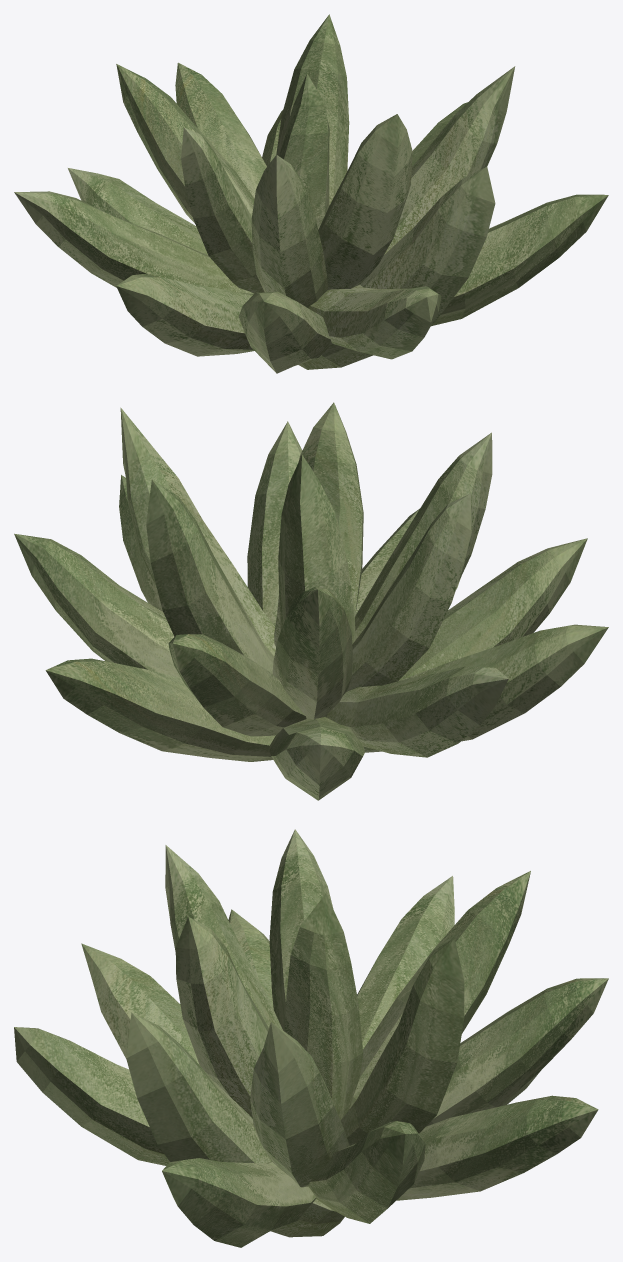
File: plant.fbx
The picture shows the model from 3 angles, top to bottom: view 1: azimuth 30°, elevation 25°; view 2: azimuth 150°, elevation 25°; view 3: azimuth 270°, elevation 25°; orthographic projection. The views are drawn at different scales.
Visible parts, largest first — view 1: plant; view 2: plant; view 3: plant.
Boxes of the visible parts, <box> form: plant: <box>14,14,608,373</box>; plant: <box>14,402,608,800</box>; plant: <box>14,829,608,1247</box>.
Size of the model in its own units: 1016 by 611 by 961.
1 material, 1 textured.
